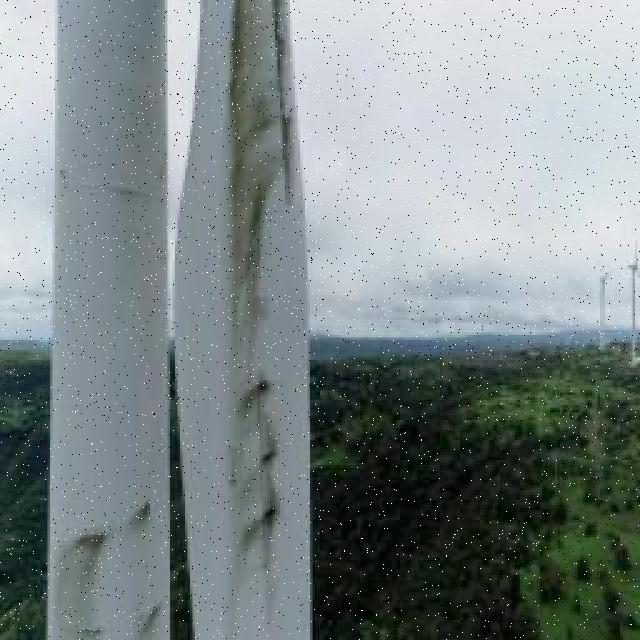Dirt: (219, 0, 301, 640), (42, 492, 175, 640)
Pin Hole: (253, 374, 272, 399), (255, 448, 281, 466), (264, 502, 280, 528), (137, 499, 153, 519)
